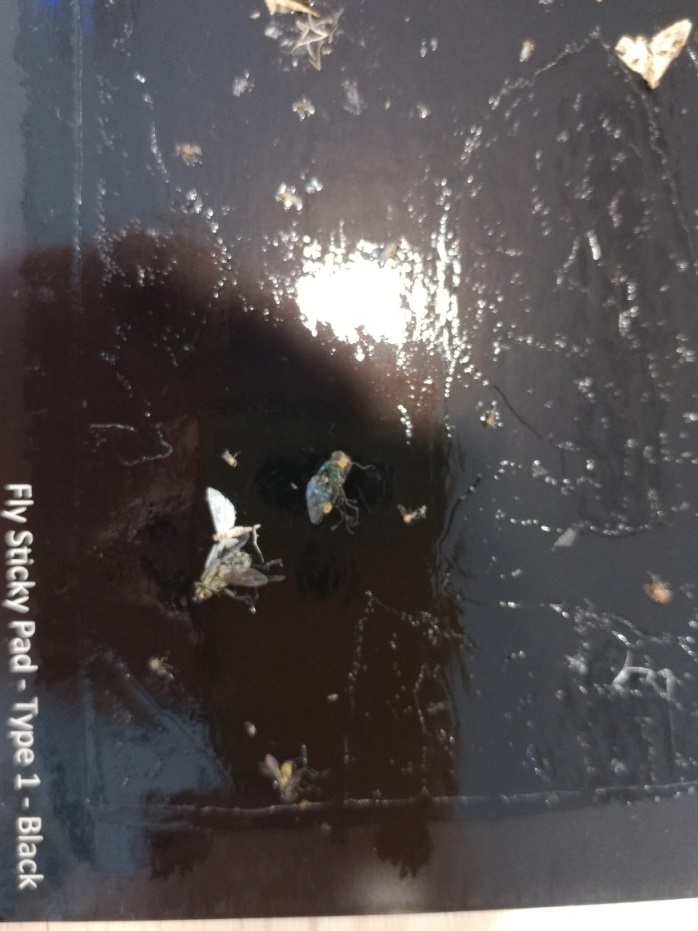fly: (189, 478, 285, 635), (297, 442, 377, 545)
moth: (609, 4, 692, 105)
